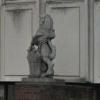Statue: (21, 7, 71, 87)
